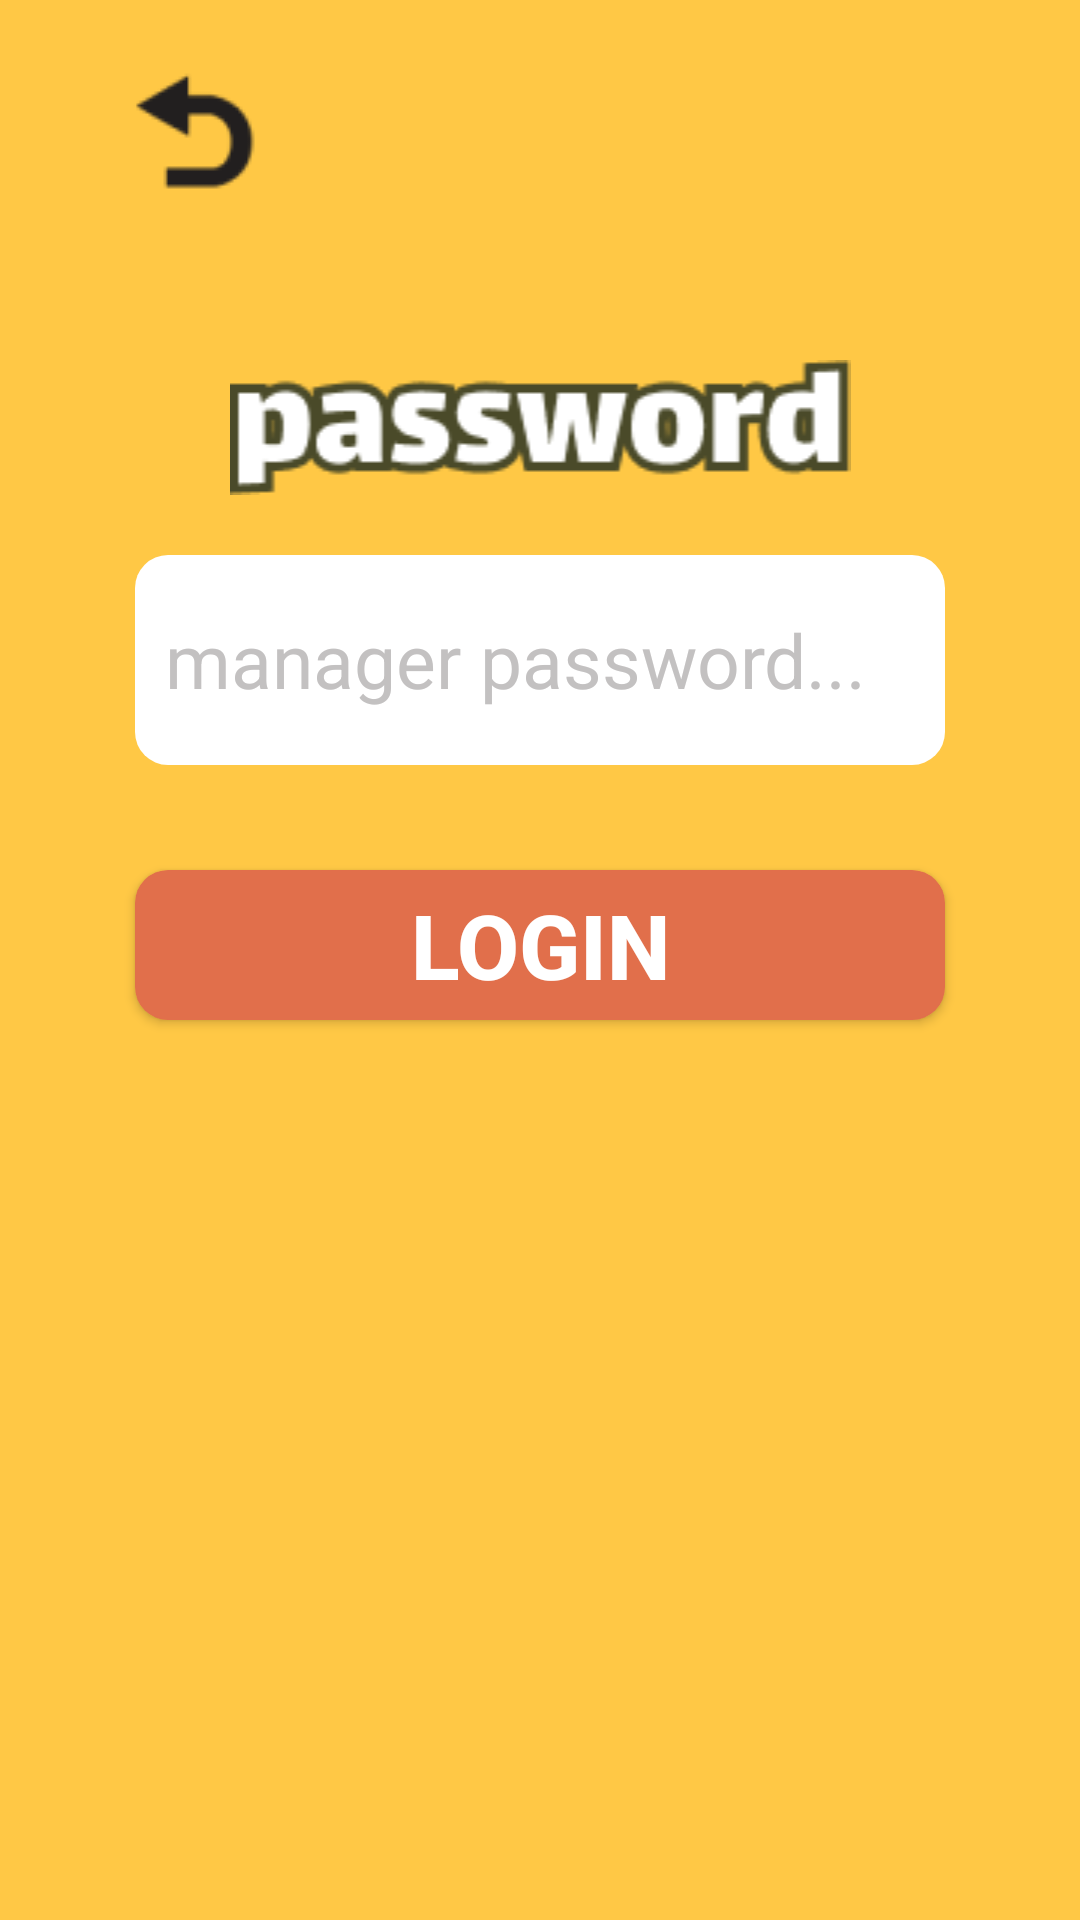

Named icons in this screenshot (1080 × 1920) and their centers, (x,y):
back: (195,132)
